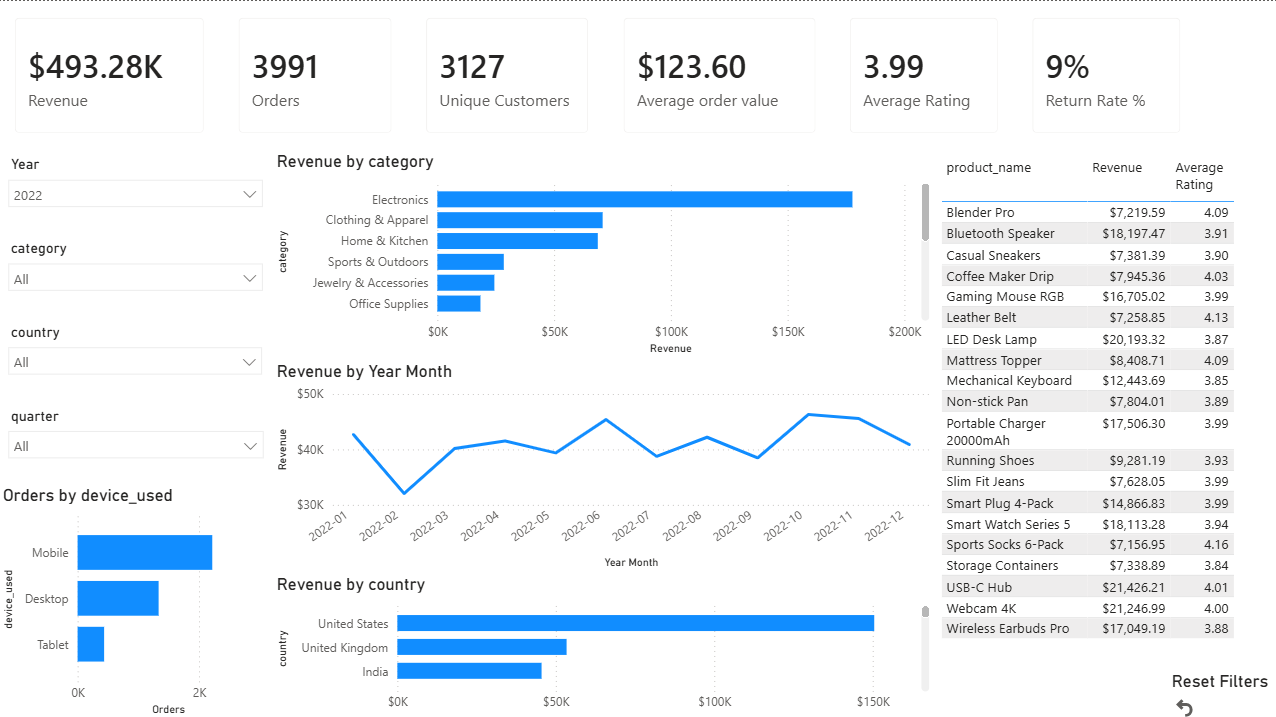

This screenshot's page, from the dashboard's own definition file:
{"tool":"powerbi","page":{"name":"Page 1","canvas":[1280,720],"ordinal":0},"visuals":[{"type":"slicer","fields":{"Values":["DateTable.Year"]},"box":[0,149.6,274.4,83.7],"z":0},{"type":"cardVisual","fields":{"Data":["DateTable.Revenue"]},"box":[0,0,223.9,149.7],"z":1000},{"type":"cardVisual","fields":{"Data":["DateTable.Orders"]},"box":[223.9,0,187.5,149.7],"z":2000},{"type":"cardVisual","fields":{"Data":["DateTable.Average order value"]},"box":[608.4,0,226.6,149.7],"z":3000},{"type":"cardVisual","fields":{"Data":["DateTable.Unique Customers"]},"box":[411.5,0,197,149.7],"z":5000},{"type":"cardVisual","fields":{"Data":["DateTable.Return Rate %"]},"box":[1017.2,0,182.1,149.7],"z":7000},{"type":"cardVisual","fields":{"Data":["DateTable.Average Rating"]},"box":[835.1,0,182.1,149.7],"z":9000},{"type":"slicer","fields":{"Values":["orders.category"]},"box":[0,233.3,274.4,83.7],"z":10000},{"type":"slicer","fields":{"Values":["orders.quarter"]},"box":[0,400.7,275.2,83.6],"z":11000},{"type":"slicer","fields":{"Values":["customers.country"]},"box":[0,317,273.9,83.6],"z":12000},{"type":"lineChart","fields":{"Y":["DateTable.Revenue"],"Category":["DateTable.Year Month"]},"box":[274.3,360,662.9,212.9],"z":13000},{"type":"clusteredBarChart","fields":{"Category":["orders.category"],"Y":["DateTable.Revenue"]},"box":[274.3,150,662.9,208.6],"z":14000},{"type":"clusteredBarChart","fields":{"Category":["customers.country"],"Y":["DateTable.Revenue"]},"box":[274.3,572.9,662.9,147.1],"z":15000},{"type":"clusteredBarChart","fields":{"Category":["orders.device_used"],"Y":["DateTable.Orders"]},"box":[0,484.3,273.9,236.1],"z":16000},{"type":"tableEx","fields":{"Values":["orders.product_name","DateTable.Revenue","DateTable.Average Rating"]},"box":[937.1,150,342.9,497.1],"z":17000},{"type":"actionButton","title":"Reset Filters","box":[1173.8,670,106.2,50],"z":17001}]}

Visuals, with their boxes in screenshot pixels (x1, y1, x2, y2), scaled from the page's 1280x720 canvas onto the 1276x717 screenshot:
slicer - DateTable.Year: l=0, t=149, r=274, b=232
cardVisual - DateTable.Revenue: l=0, t=0, r=223, b=149
cardVisual - DateTable.Orders: l=223, t=0, r=410, b=149
cardVisual - DateTable.Average order value: l=606, t=0, r=832, b=149
cardVisual - DateTable.Unique Customers: l=410, t=0, r=607, b=149
cardVisual - DateTable.Return Rate %: l=1014, t=0, r=1196, b=149
cardVisual - DateTable.Average Rating: l=832, t=0, r=1014, b=149
slicer - orders.category: l=0, t=232, r=274, b=316
slicer - orders.quarter: l=0, t=399, r=274, b=482
slicer - customers.country: l=0, t=316, r=273, b=399
lineChart - DateTable.Revenue x DateTable.Year Month: l=273, t=358, r=934, b=571
clusteredBarChart - orders.category x DateTable.Revenue: l=273, t=149, r=934, b=357
clusteredBarChart - customers.country x DateTable.Revenue: l=273, t=571, r=934, b=716
clusteredBarChart - orders.device_used x DateTable.Orders: l=0, t=482, r=273, b=716
tableEx - orders.product_name x DateTable.Revenue: l=934, t=149, r=1275, b=644
"Reset Filters" actionButton: l=1170, t=667, r=1275, b=716
